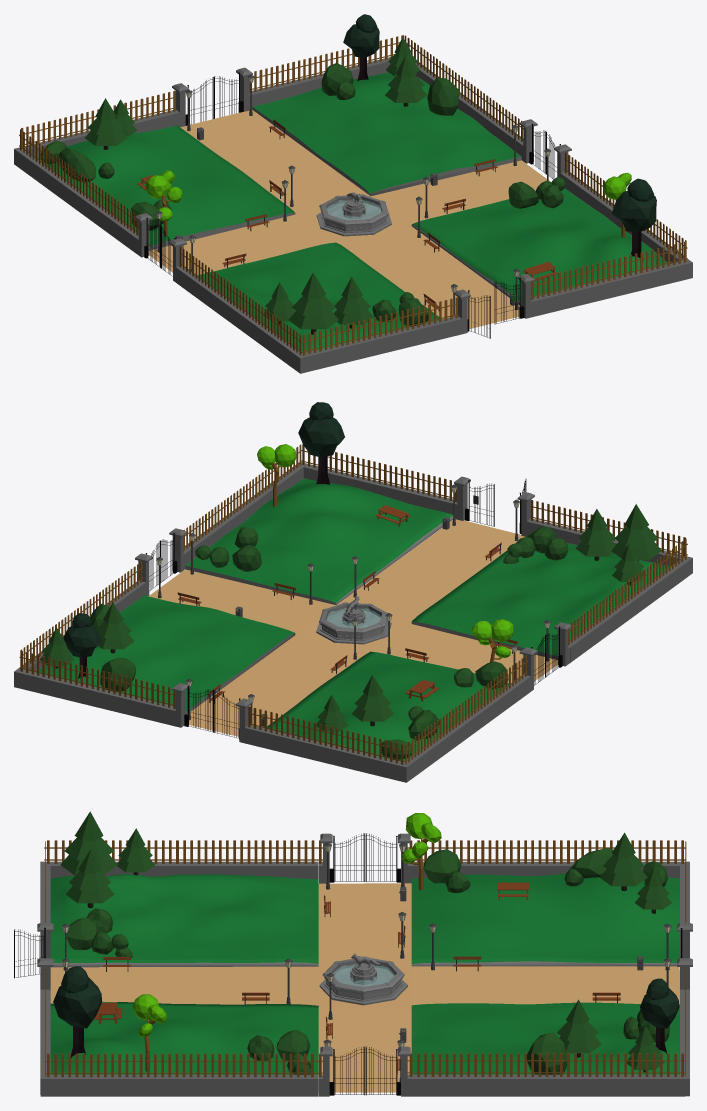
3 renders of one model, top to bottom at view 1: azimuth 30°, elevation 25°; view 2: azimuth 150°, elevation 25°; view 3: azimuth 270°, elevation 25°, orthographic. The views are drawn at different scales.
Visible parts, largest first — view 1: terriccio, terriccio.001, MURO, abete, prova2.004, prova.002, prova.003, prova2, prova2.003, Icosphere.009, prova.004, prova (+14 smaller); view 2: terriccio, terriccio.001, MURO, abete, prova2, prova, prova.004, prova2.004, prova.002, prova2.002, Icosphere.009, prova2.003 (+14 smaller); view 3: terriccio, terriccio.001, MURO, abete, prova2.002, prova2.003, prova2, prova2.004, Icosphere.009, fontana base, barre verticali.003, barre verticali.002 (+13 smaller).
Boxes of the visible parts, box(x1,y1,x2,y2) form: terriccio: box(37, 72, 667, 352); terriccio.001: box(149, 110, 550, 328); MURO: box(14, 57, 692, 373); abete: box(85, 37, 427, 334); prova2.004: box(179, 246, 302, 355); prova.002: box(531, 241, 687, 299); prova.003: box(302, 297, 458, 355); prova2: box(19, 129, 138, 235); prova2.003: box(404, 35, 523, 141); Icosphere.009: box(612, 178, 656, 232); prova.004: box(249, 35, 403, 93); prova: box(21, 90, 176, 147); terriccio: box(36, 478, 668, 761); terriccio.001: box(148, 519, 557, 736); MURO: box(14, 462, 692, 782); abete: box(39, 504, 661, 733); prova2: box(404, 655, 527, 764); prova: box(248, 706, 404, 764); prova.004: box(20, 650, 175, 708); prova2.004: box(568, 538, 687, 645); prova.002: box(301, 444, 457, 502); prova2.002: box(183, 444, 301, 550); Icosphere.009: box(298, 402, 344, 457); prova2.003: box(19, 561, 142, 670); terriccio: box(50, 873, 679, 1074); terriccio.001: box(50, 883, 679, 1092); MURO: box(37, 833, 692, 1096); abete: box(60, 811, 671, 1072); prova2.002: box(45, 1053, 322, 1077); prova2.003: box(407, 1053, 686, 1076); prova2: box(407, 840, 685, 863); prova2.004: box(44, 840, 322, 863); Icosphere.009: box(53, 966, 102, 1028); fontana base: box(319, 967, 407, 1005); barre verticali.003: box(329, 833, 400, 882); barre verticali.002: box(329, 1046, 400, 1095).
Bounding box in the file's own units: 52.65 × 12.06 × 68.74.
6 materials, 5 textured.
